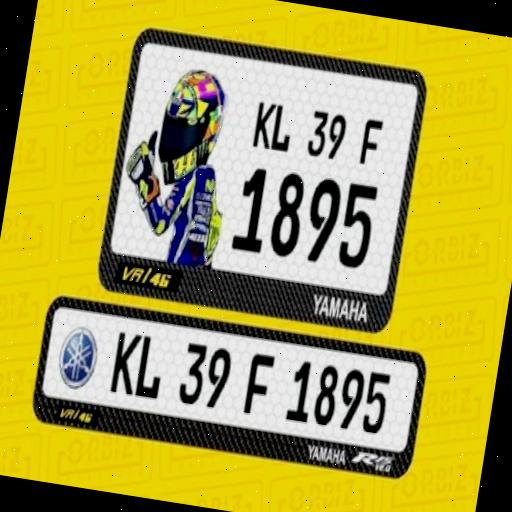number plate: (101, 38, 422, 314), (37, 302, 423, 471)
